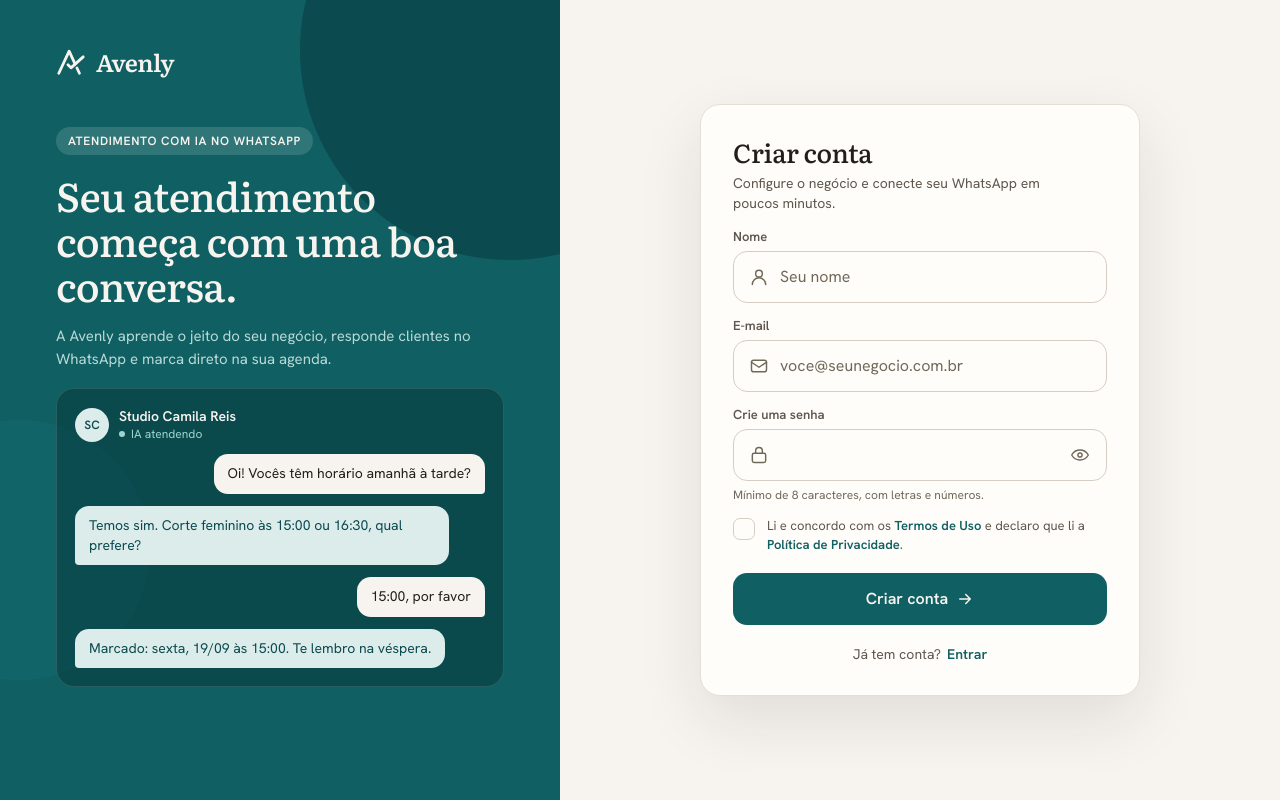
Test: login e cadastro — integração real com erro junto ao campo › e-mail já cadastrado aparece junto ao campo de e-mail, senha preservada, sem 'Repita a senha'
This screenshot has width=1280, height=800.
Type "Dona do Studio" into the field labelled "Nome" at (920,276), box [733,250,1107,302]
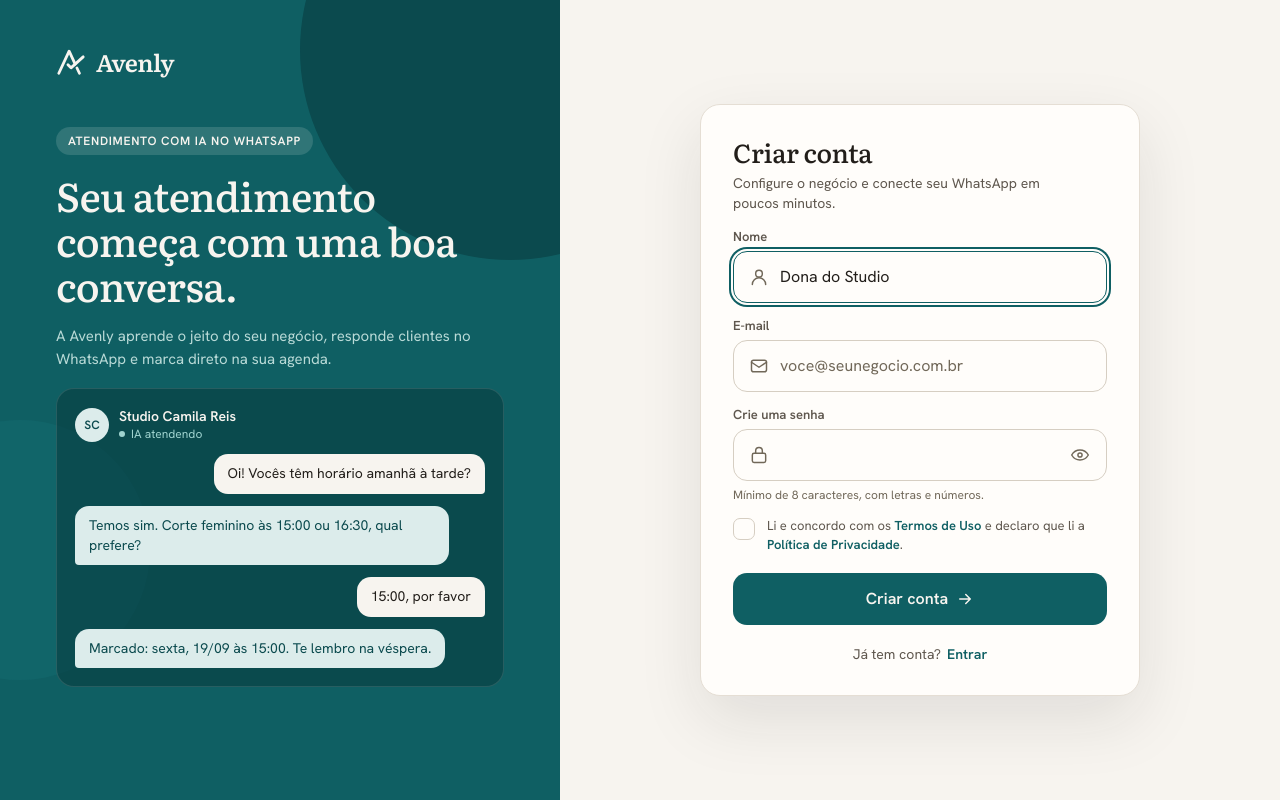
Type "dona@studio.com" into the field labelled "E-mail" at (920,366), box [733,340,1107,392]
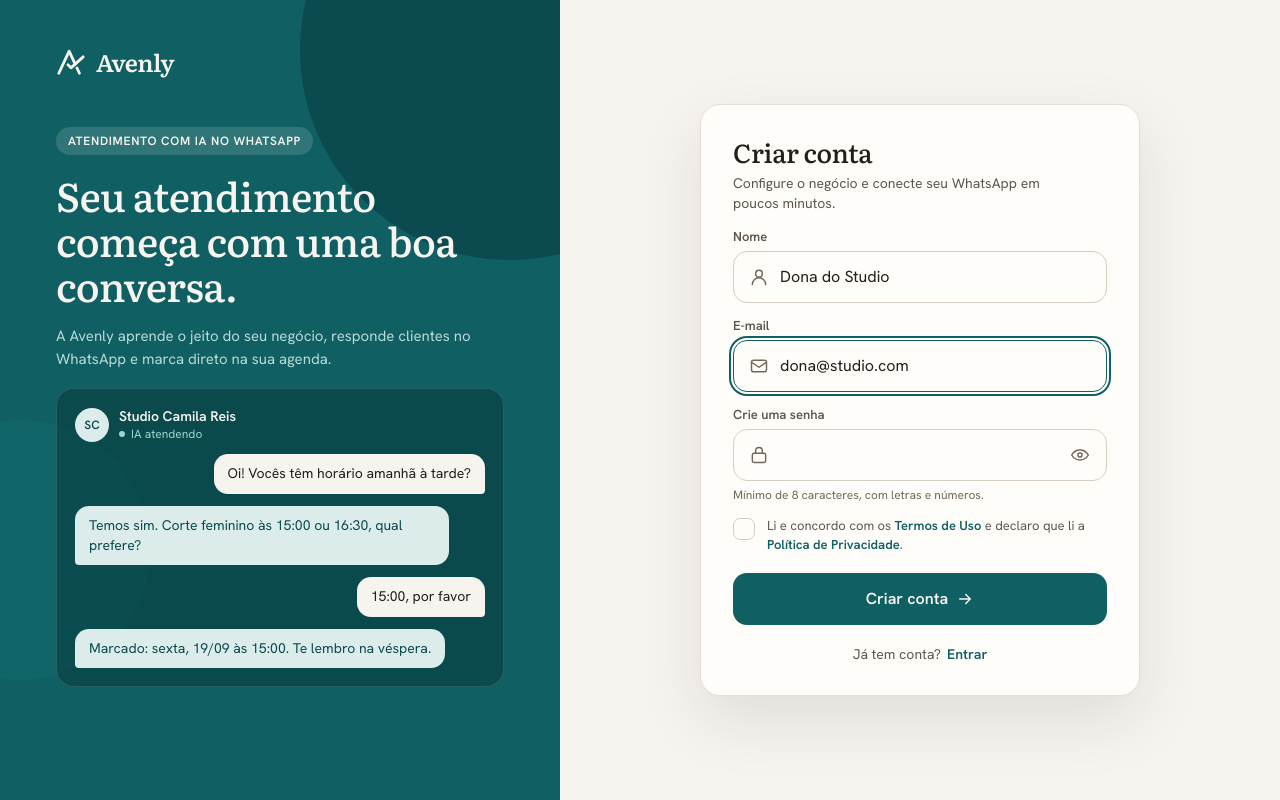
Type "senha-forte-1" into the password field labelled "Crie uma senha Mínimo de 8 caracteres, com letras e números." at (920,454), box [733,428,1107,480]
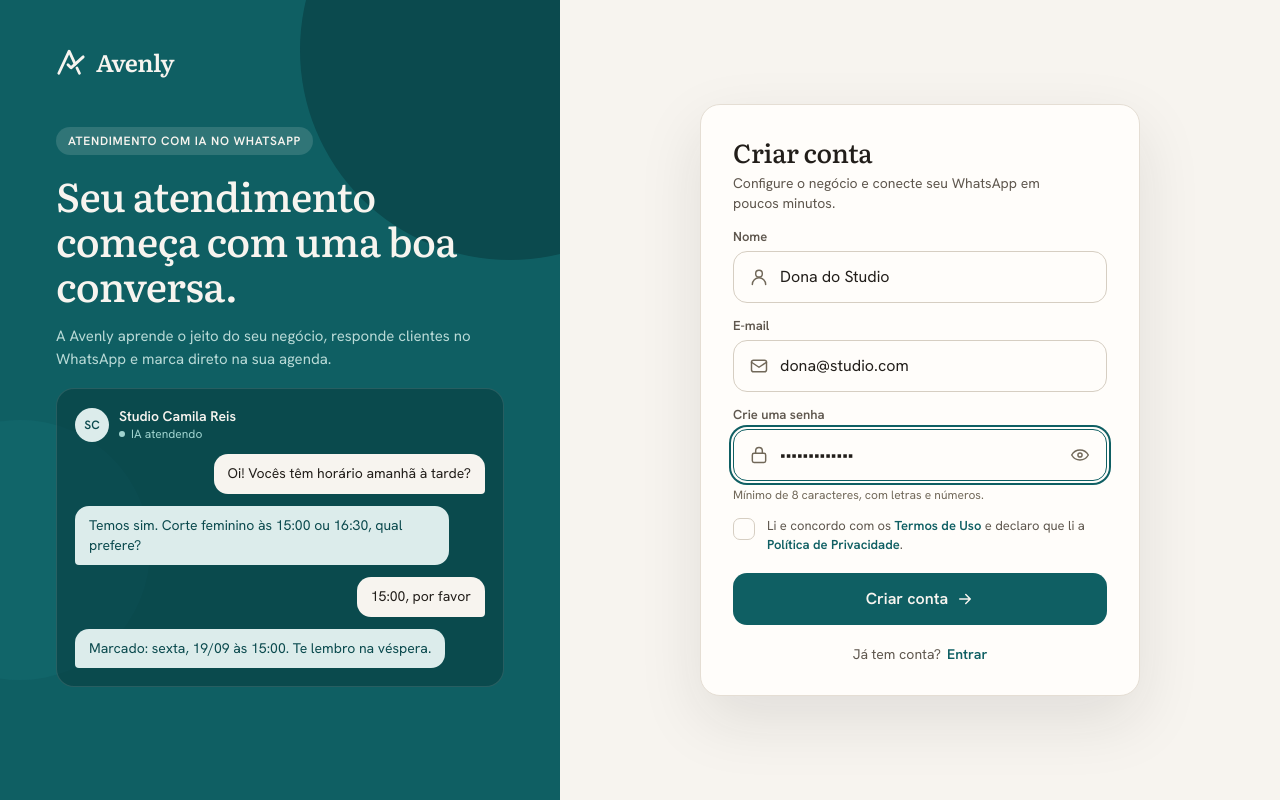
Click the checkbox at (920,536), box [733,517,1107,555]
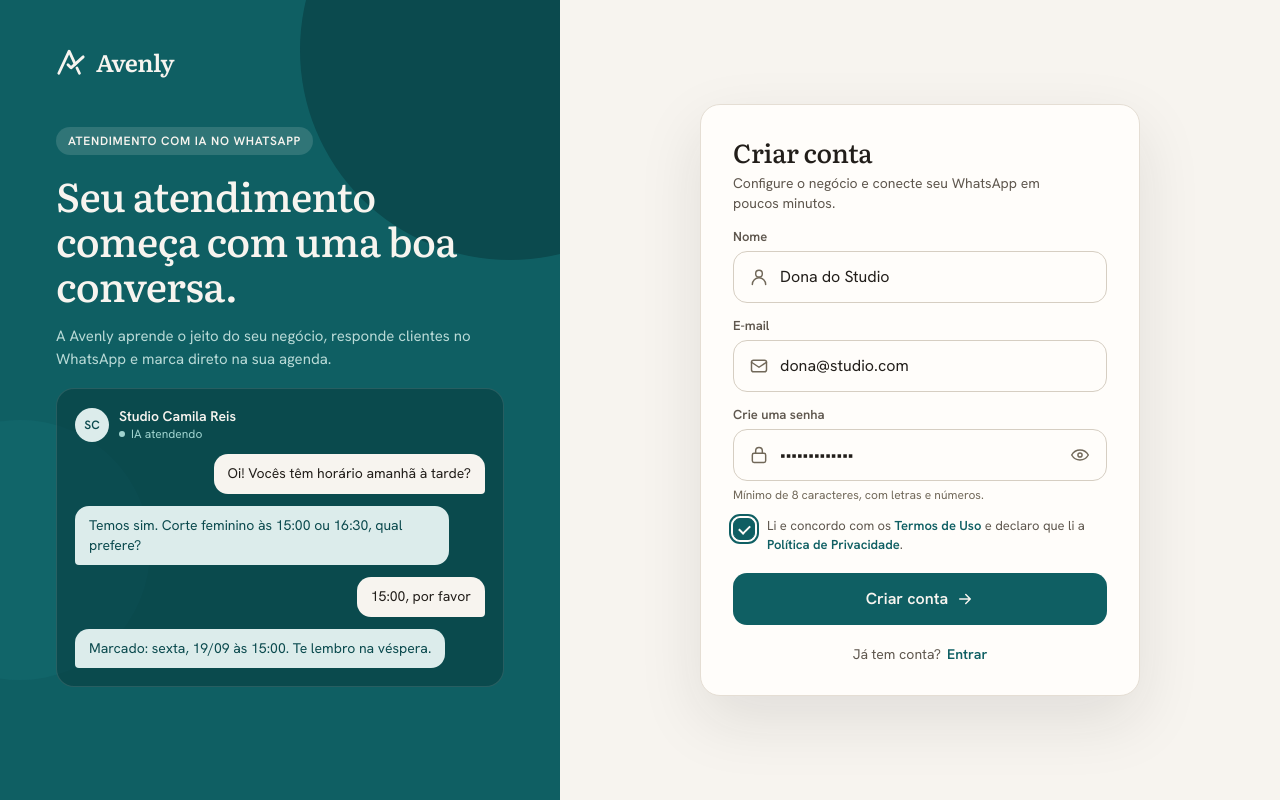
Click the button "Criar conta" at (920,599), box [733,573,1107,625]
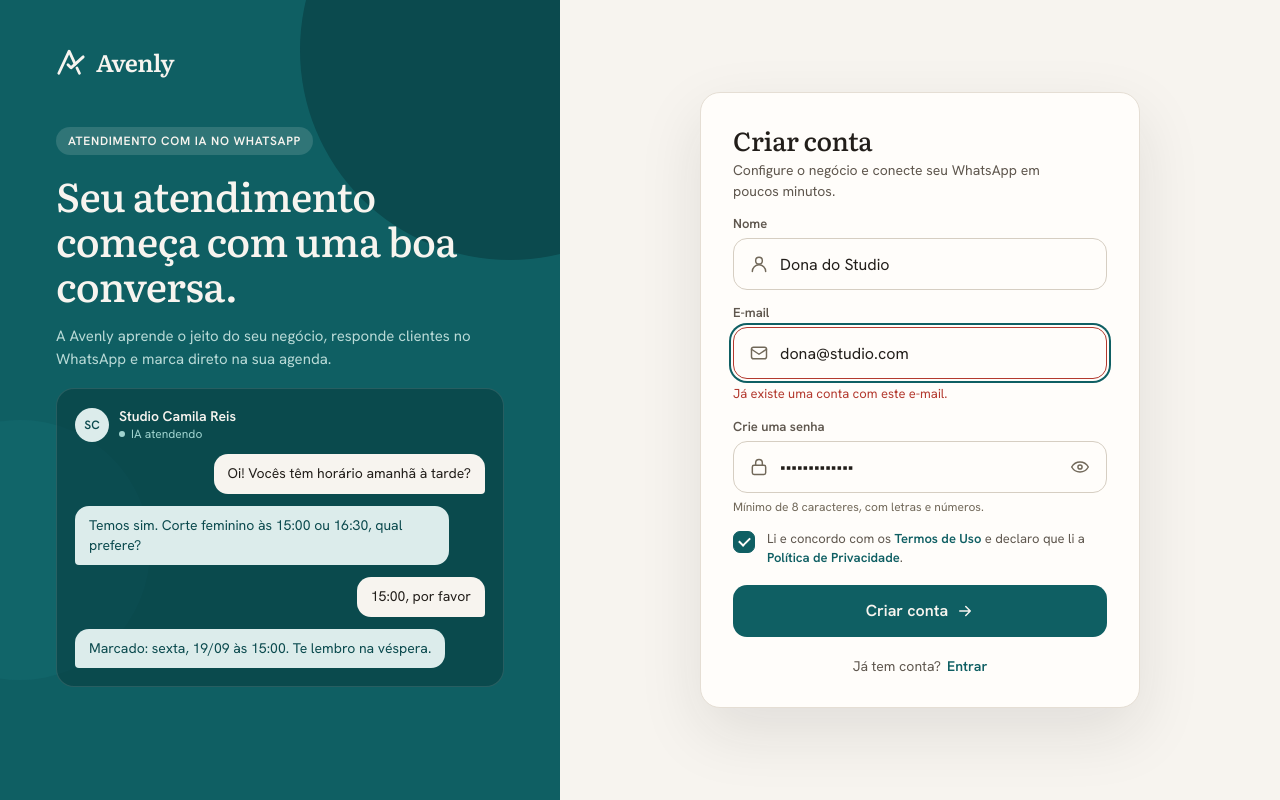
Expected: the text "Já existe uma conta com este e-mail." is shown, [733,385,947,402]
